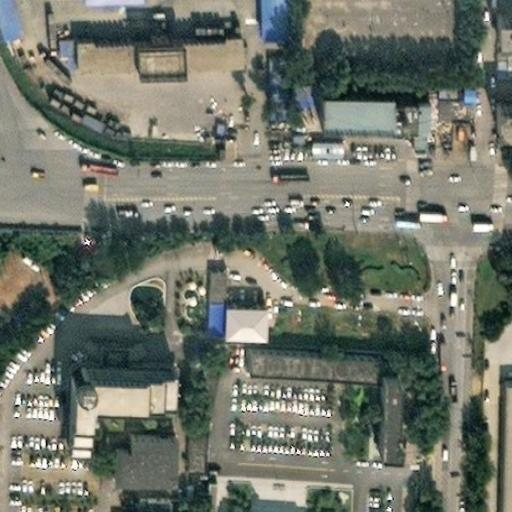building: (61, 355, 167, 435), (64, 26, 231, 62), (304, 85, 415, 139), (237, 340, 381, 368), (104, 422, 168, 468), (261, 49, 289, 121), (497, 379, 512, 510), (361, 361, 380, 446), (213, 294, 256, 329), (430, 70, 466, 106), (244, 492, 298, 512), (485, 30, 512, 60), (487, 86, 512, 114), (308, 135, 344, 154), (197, 260, 217, 294), (179, 420, 195, 461), (487, 0, 512, 25), (90, 334, 117, 355), (197, 294, 214, 324)
